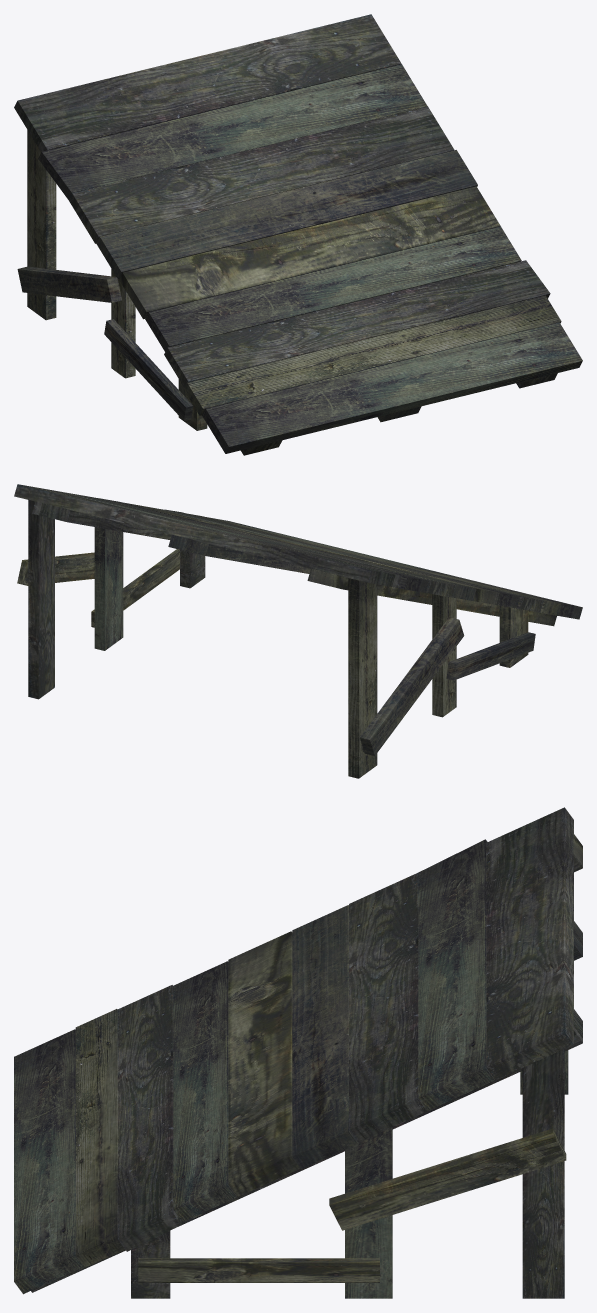
Rendered from OldWoodenRamp 1m.fbx.
3 views of the same model, one above another, from view 1: azimuth 30°, elevation 25°; view 2: azimuth 150°, elevation 25°; view 3: azimuth 270°, elevation 25° (orthographic). The views are drawn at different scales.
Parts seen in each view (by area): view 1: OldWoodenRamp_1m; view 2: OldWoodenRamp_1m; view 3: OldWoodenRamp_1m.
Boxes of the visible parts, x1=… form: OldWoodenRamp_1m: x1=14, y1=14, x2=582, y2=455; OldWoodenRamp_1m: x1=14, y1=484, x2=582, y2=778; OldWoodenRamp_1m: x1=14, y1=807, x2=582, y2=1298.
Size of the model in its own units: 2.01 by 1.1 by 2.07.
